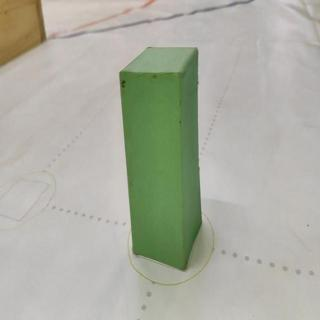greenbox: (118, 45, 204, 272)
